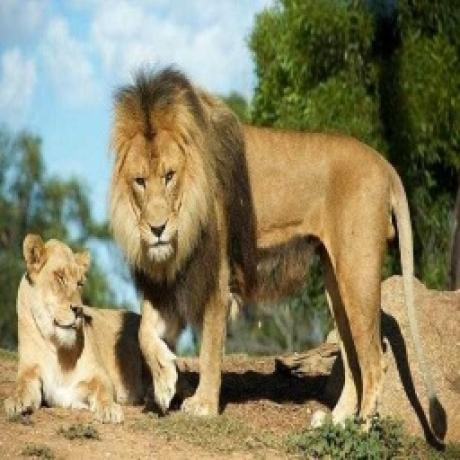Lion: (107, 61, 448, 445), (6, 230, 145, 420)
